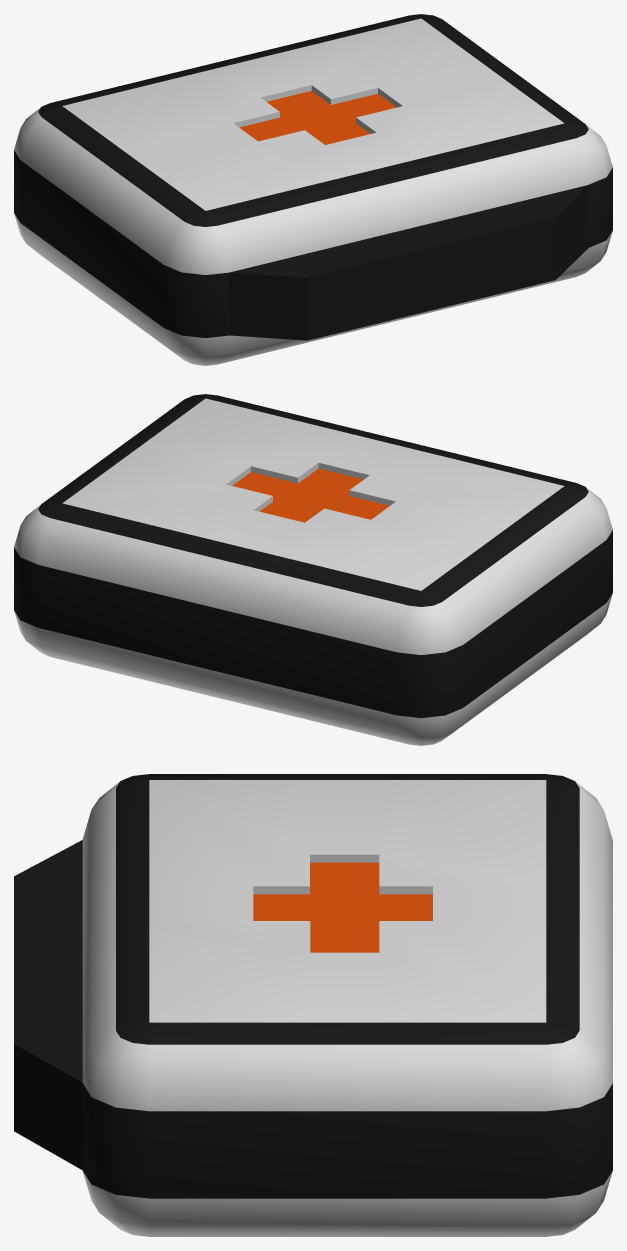
The model's file is Botiquin.FBX.
3 renders of one model, top to bottom at view 1: azimuth 30°, elevation 25°; view 2: azimuth 150°, elevation 25°; view 3: azimuth 270°, elevation 25°, orthographic. The views are drawn at different scales.
Parts seen in each view (by area): view 1: ChamferBox001; view 2: ChamferBox001; view 3: ChamferBox001.
Boxes of the visible parts, x1,y1,x2,y2 form: ChamferBox001: (14, 14, 612, 365); ChamferBox001: (14, 394, 612, 745); ChamferBox001: (14, 774, 612, 1236).
Size of the model in its own units: 1.6 by 0.52 by 1.35.
